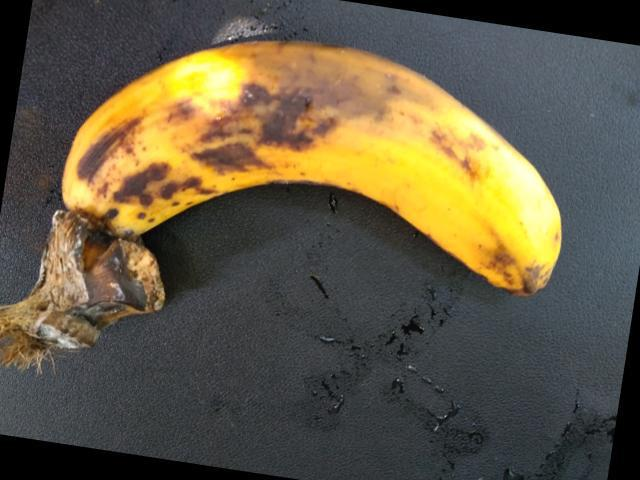overripe: (74, 63, 594, 308)
rotten: (175, 19, 406, 212)
